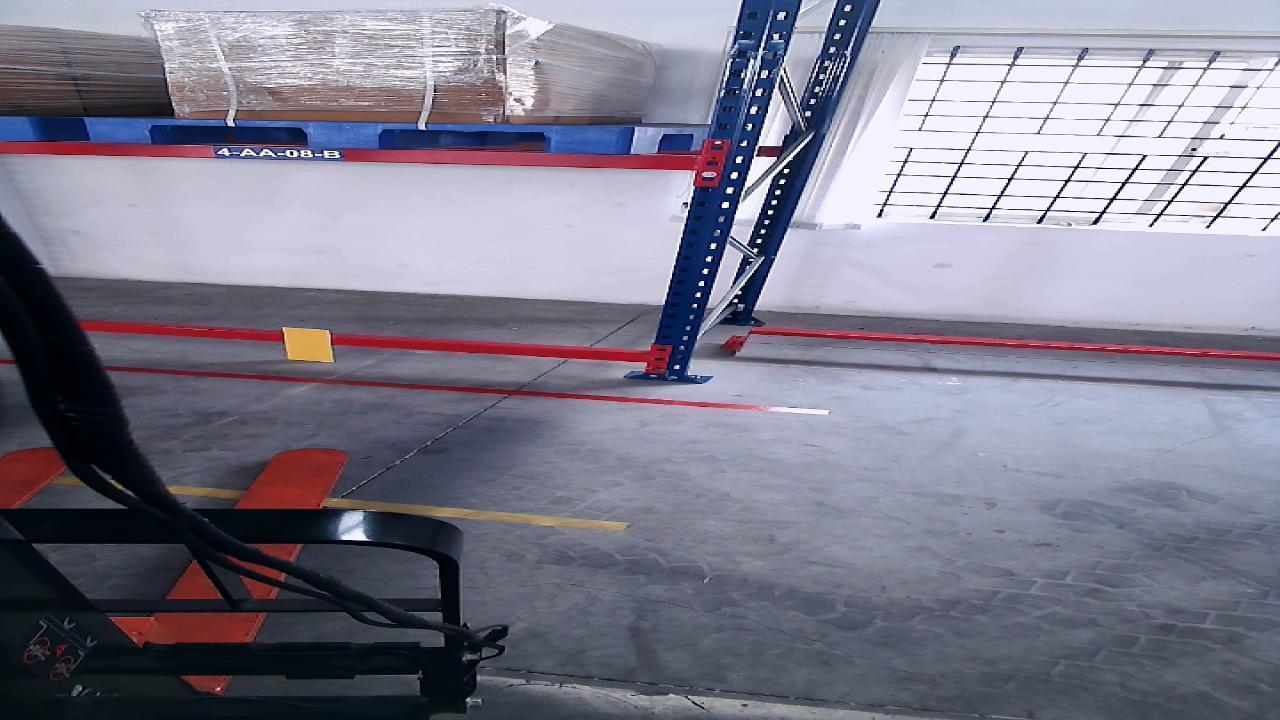red_line: (103, 365, 825, 413)
yellow_line: (49, 480, 631, 531)
